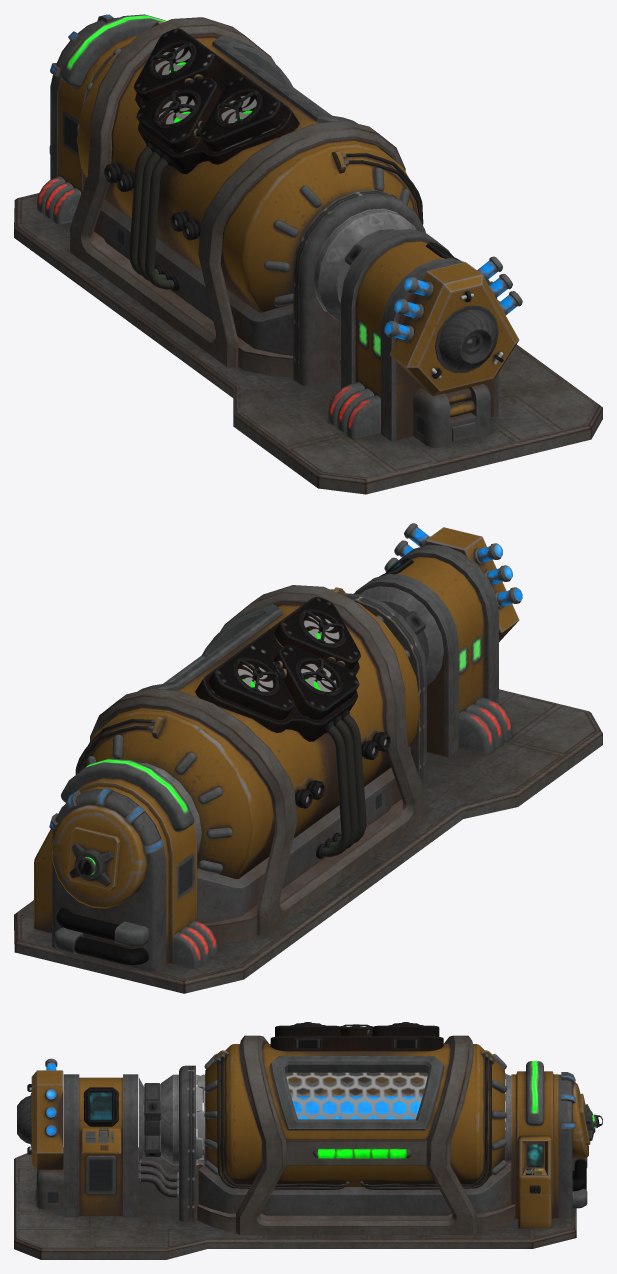
The model's file is generator_lowpoly.glb.
3 renders of one model, top to bottom at view 1: azimuth 30°, elevation 25°; view 2: azimuth 150°, elevation 25°; view 3: azimuth 270°, elevation 25°, orthographic. The views are drawn at different scales.
Visible parts, largest first — view 1: Object_2, Object_3; view 2: Object_2, Object_3; view 3: Object_2, Object_3.
Part boxes in pixels (<box>): Object_2: <box>14,14,602,494</box>; Object_3: <box>49,14,519,441</box>; Object_2: <box>14,523,602,993</box>; Object_3: <box>49,527,519,971</box>; Object_2: <box>14,1022,602,1259</box>; Object_3: <box>27,1030,597,1234</box>.
Size of the model in its own units: 3.19 by 2.54 by 7.69.
1 material, 1 textured.
